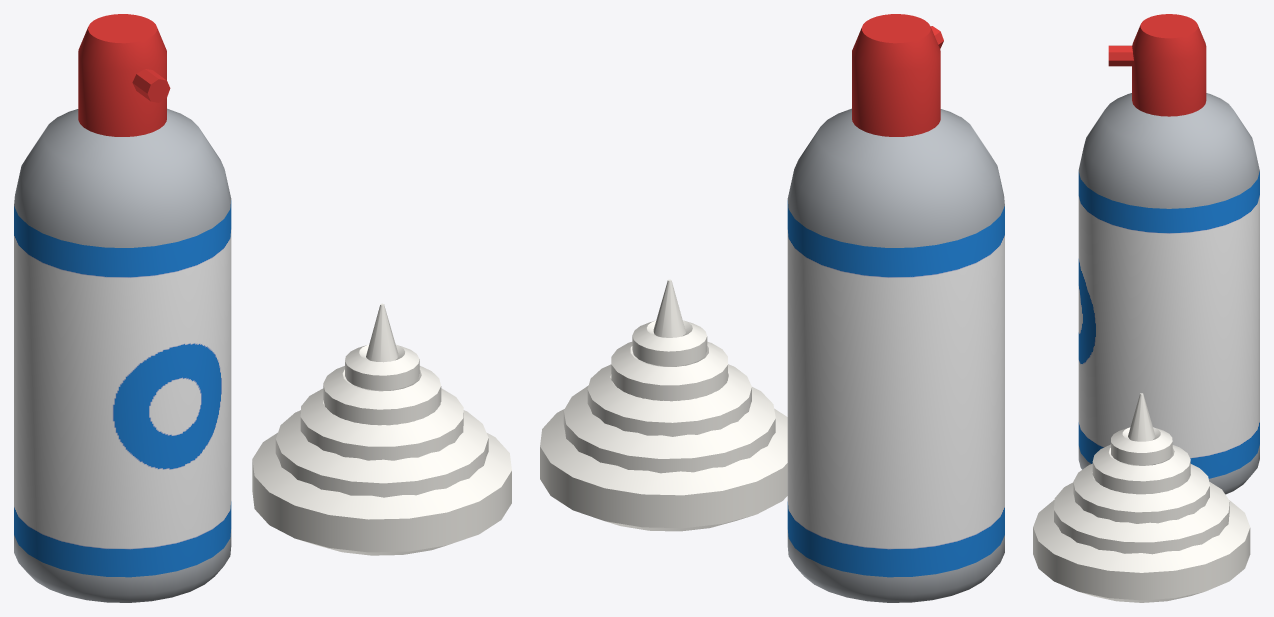
The model's file is Cream.fbx.
The picture shows the model from 3 angles, left to right: view 1: azimuth 30°, elevation 25°; view 2: azimuth 150°, elevation 25°; view 3: azimuth 270°, elevation 25°; orthographic projection. The views are drawn at different scales.
Visible parts, largest first — view 1: Cream; view 2: Cream; view 3: Cream.
Boxes of the visible parts, x1=… form: Cream: x1=14, y1=14, x2=511, y2=602; Cream: x1=540, y1=14, x2=1004, y2=602; Cream: x1=1033, y1=14, x2=1259, y2=602.
Size of the model in its own units: 0.1575 by 0.178 by 0.0825.
Materials: 4 (1 with a texture image).
